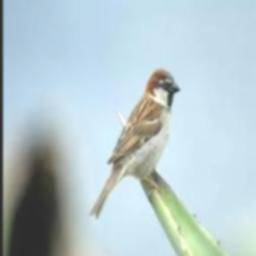Sparrow: (90, 67, 179, 218)
